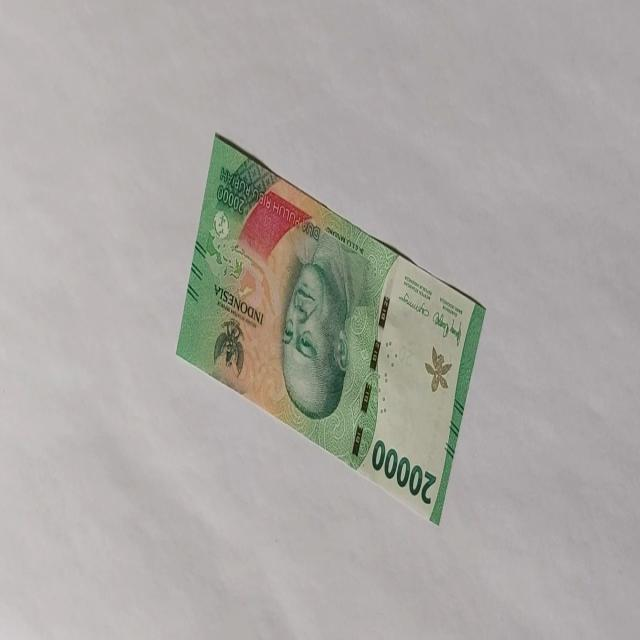dua puluh ribu rupiah: (175, 130, 487, 528), (278, 228, 368, 420)
